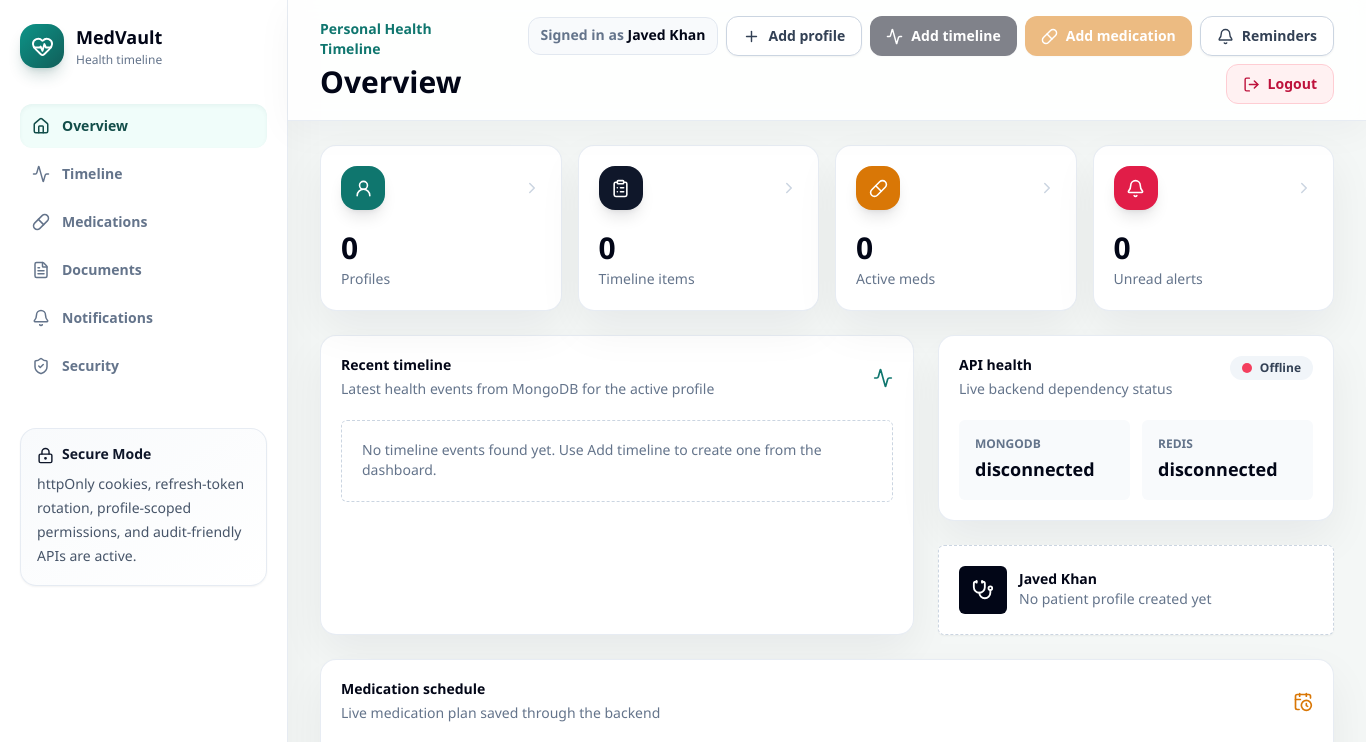
MedVault dashboard › switches to the documents workspace and uses demo document records
The image size is (1366, 742).
Check: the heading "Overview" is shown, box [320,64,480,100]
Click the button "Documents" at [144, 270], box [20,248,267,292]
(page scrolled)
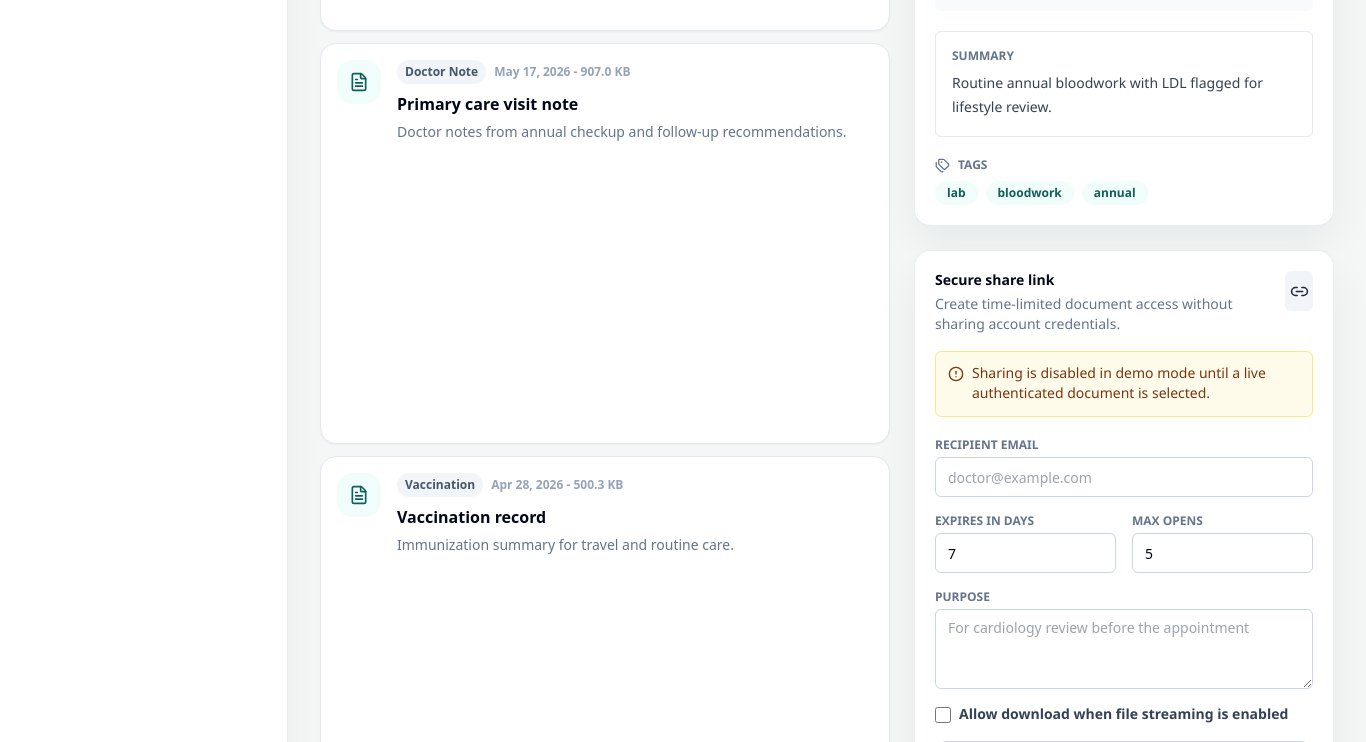
Check: the text "Sharing is disabled in demo mode until a live authenticated document is selected." is shown, box [972,364,1266,403]
